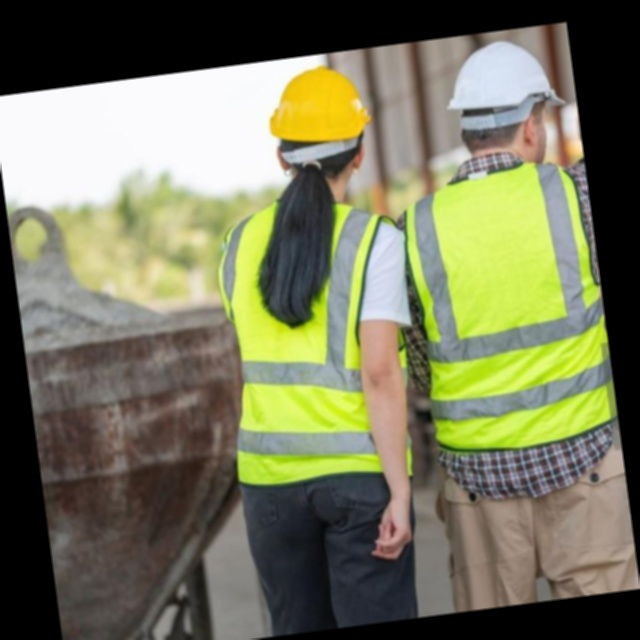Con_Casco: (442, 34, 574, 176), (263, 60, 380, 189)
Con_Chaleco: (397, 162, 620, 458), (210, 192, 423, 501)
